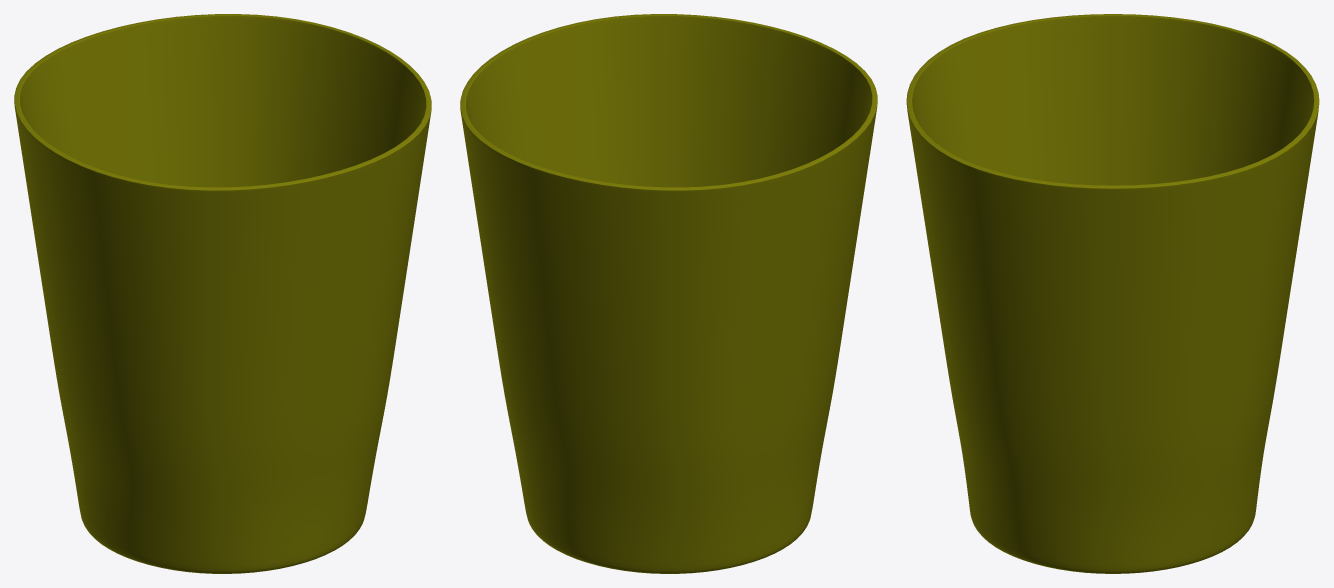
File: cup_desk.fbx
The picture shows the model from 3 angles, left to right: view 1: azimuth 30°, elevation 25°; view 2: azimuth 150°, elevation 25°; view 3: azimuth 270°, elevation 25°; orthographic projection.
Parts seen in each view (by area): view 1: cup; view 2: cup; view 3: cup.
Boxes of the visible parts, left/top/right/bottom form: cup: left=14, top=14, right=431, bottom=573; cup: left=460, top=14, right=877, bottom=573; cup: left=906, top=14, right=1319, bottom=573.
Bounding box in the file's own units: 86.61 × 96.1 × 86.61.
